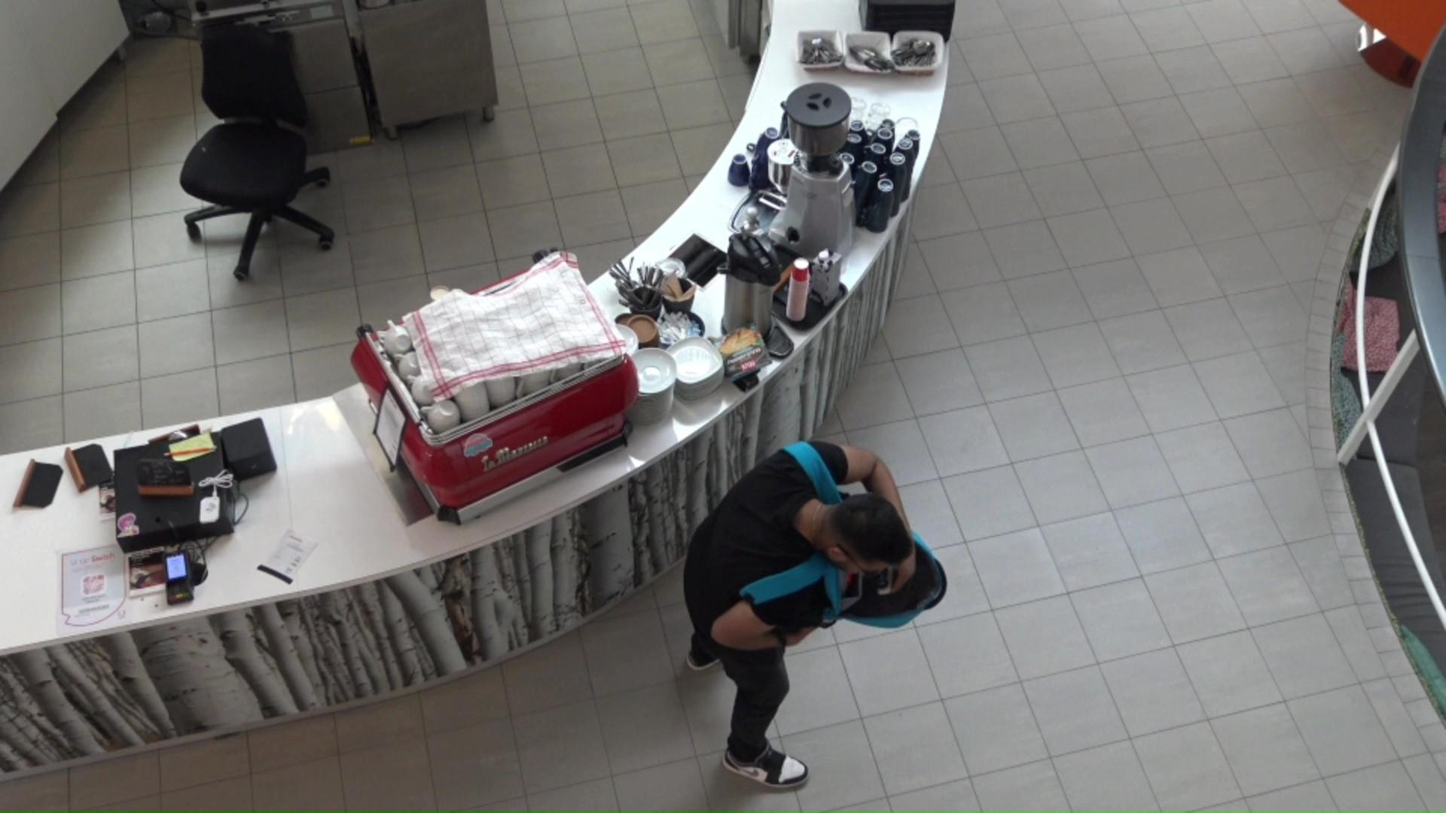shoplifting: (684, 441, 942, 791)
